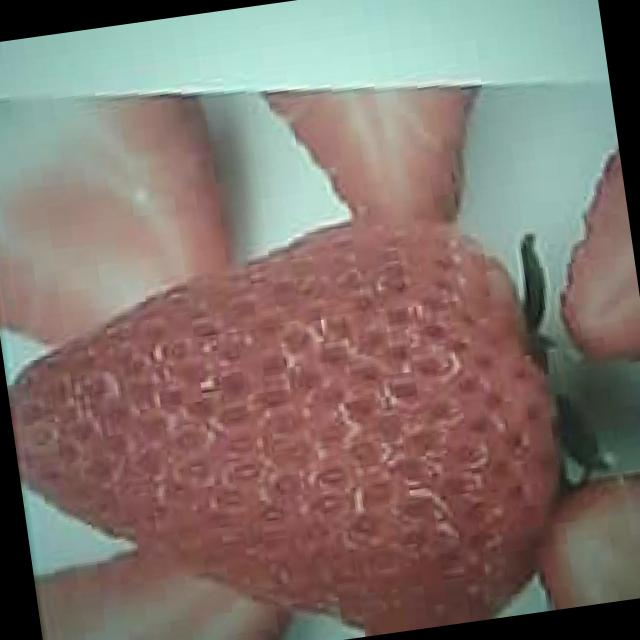strawberry: (0, 192, 575, 640)
